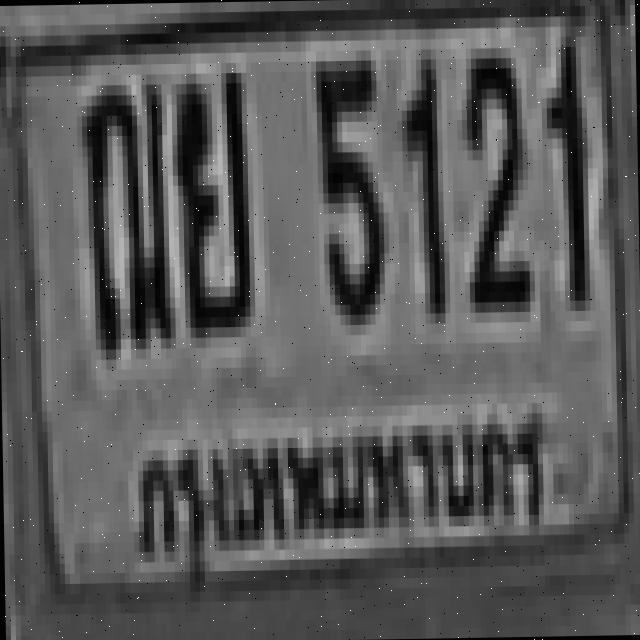1: (540, 31, 585, 296), (398, 49, 442, 314)
2: (460, 42, 525, 308)
28NorNen: (76, 74, 170, 350)
43YorYak: (170, 62, 246, 328)
5: (310, 50, 380, 315)
Bangkok: (123, 394, 557, 598)
